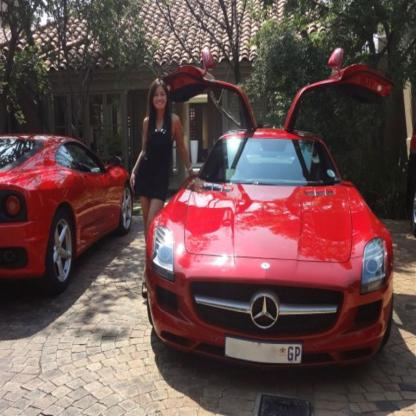Car: (146, 46, 393, 375), (0, 134, 133, 290)
